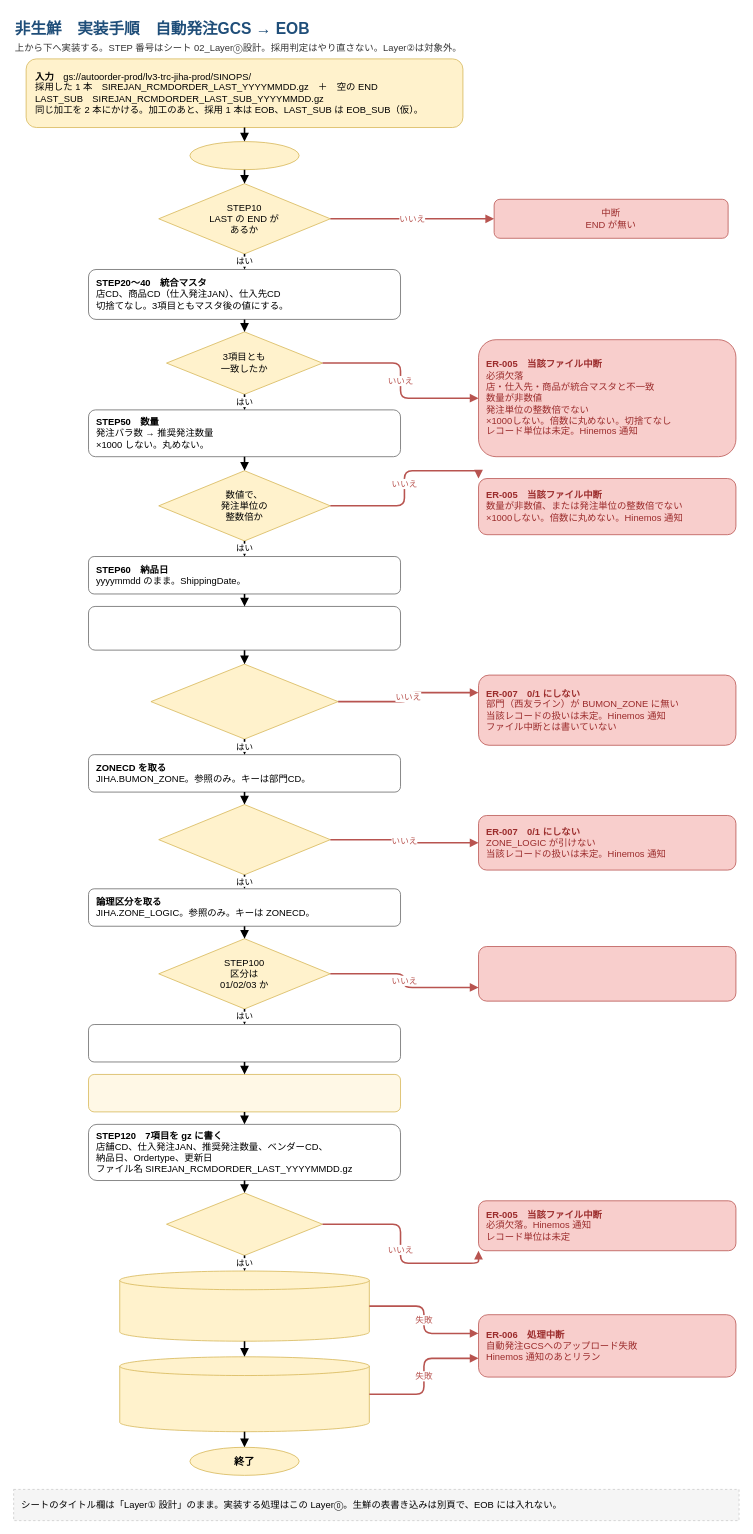
This 753x1534 diagram has some shape labels left out. Here are the shapes that lost their labels. From the top down, the box of each, then its label:
(189, 141, 299, 170): 開始
(88, 606, 401, 650): STEP70 部門CD 勧告ファイルの西友中分類。ライン＝部門。 商品マスタは見ない。
(150, 663, 338, 739): STEP80 BUMON_ZONE に部門があるか
(158, 804, 330, 875): STEP90 ZONE_LOGIC が引けるか
(478, 946, 736, 1001): ER-007 0/1 にしない 論理区分が 01/02/03 以外 当該レコードの扱いは未定。Hinemos 通知
(88, 1024, 401, 1062): Ordertype 01 → 0 02 → 1 03 → 1
(88, 1074, 401, 1112): STEP110 更新日 発注日か、DB更新日か。未定。値を仮置きしない。
(166, 1192, 323, 1255): 必須は 揃っているか
(119, 1270, 369, 1341): STEP130 採用した 1 本 （DBOUT） OrderSV / EOB 既存。再判定はしない。
(119, 1356, 369, 1432): STEP140 LAST_SUB （DBOUT） OrderSV / EOB_SUB（仮） 同じ加工。EOB とは別。表名は仮。
